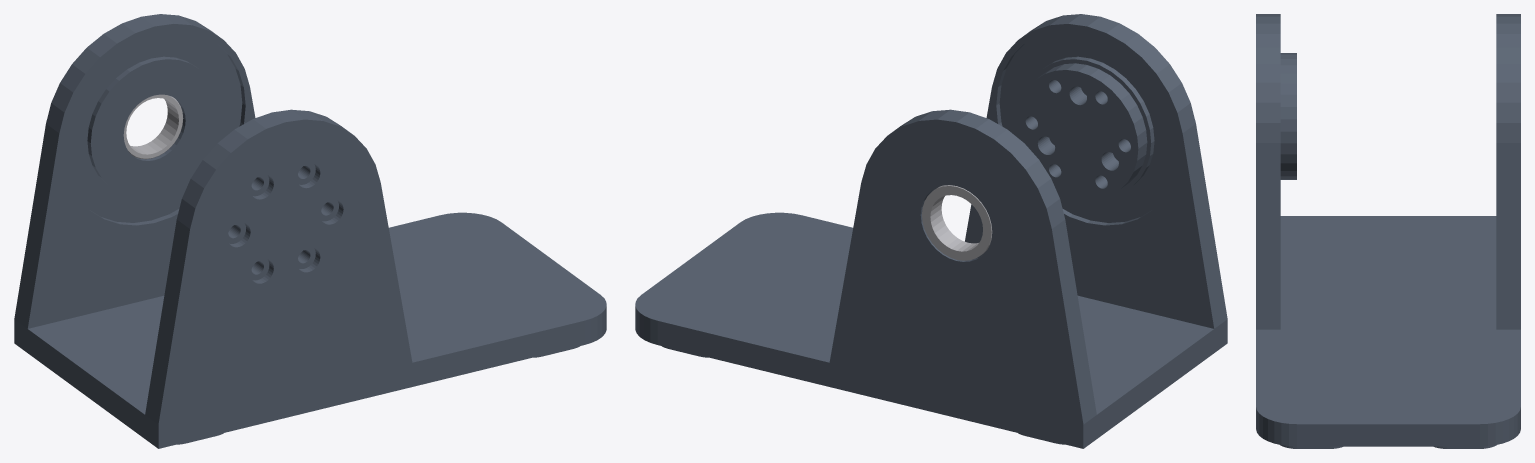
The model's file is foot_L.dae.
3 renders of one model, left to right at view 1: azimuth 30°, elevation 25°; view 2: azimuth 150°, elevation 25°; view 3: azimuth 270°, elevation 25°, orthographic. The views are drawn at different scales.
Visible parts, largest first — view 1: foot_L-printed, foot_L-steel; view 2: foot_L-printed, foot_L-steel; view 3: foot_L-printed.
Part boxes in pixels (<box>): foot_L-printed: <box>14,14,606,448</box>; foot_L-steel: <box>123,94,183,159</box>; foot_L-printed: <box>635,14,1227,448</box>; foot_L-steel: <box>922,185,992,260</box>; foot_L-printed: <box>1256,14,1520,448</box>.
Size of the model in its own units: 0.12 by 0.0645 by 0.076.
